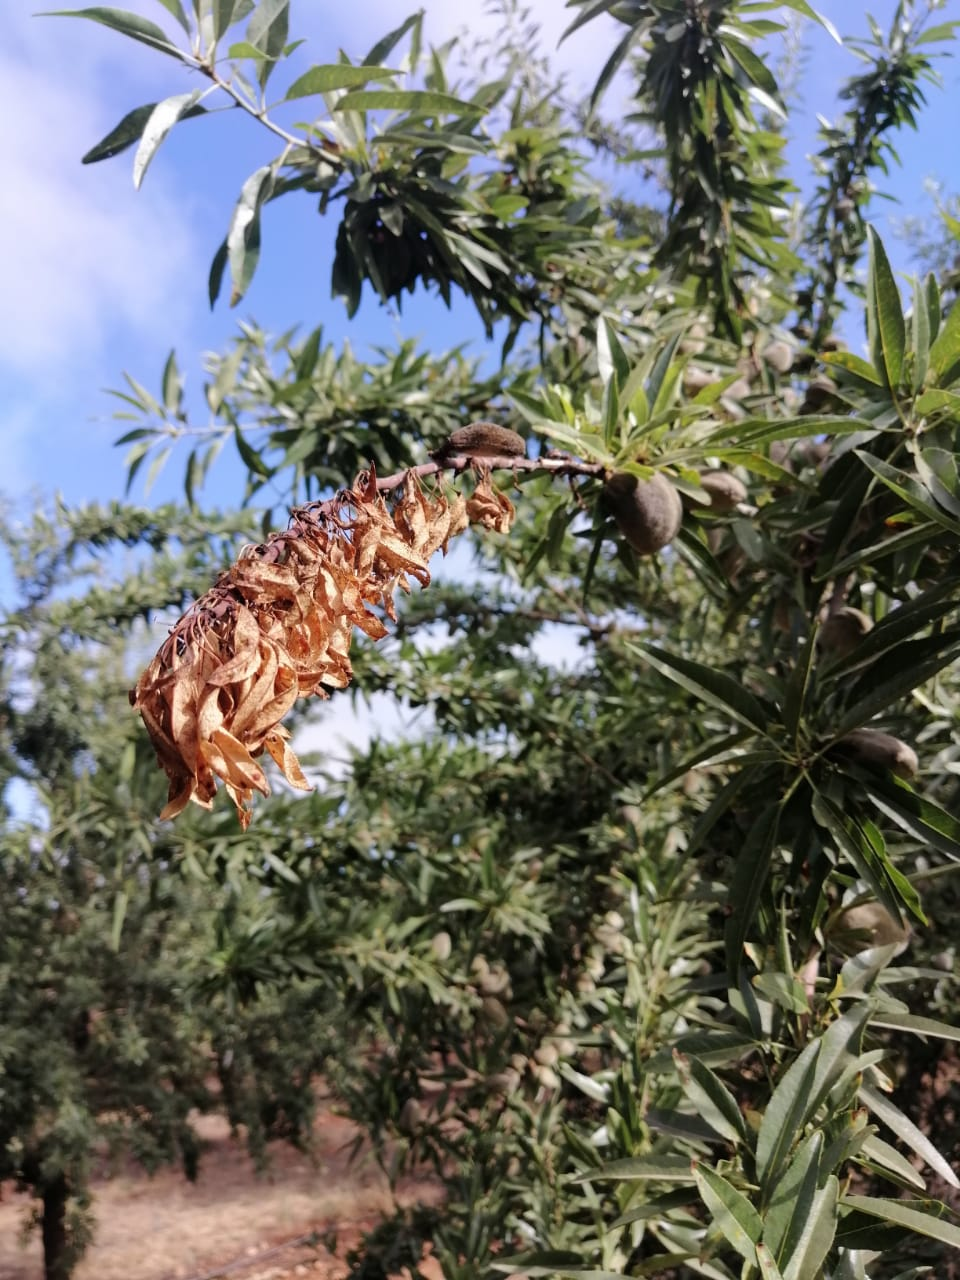chancre fusicocum: (125, 458, 518, 833)
